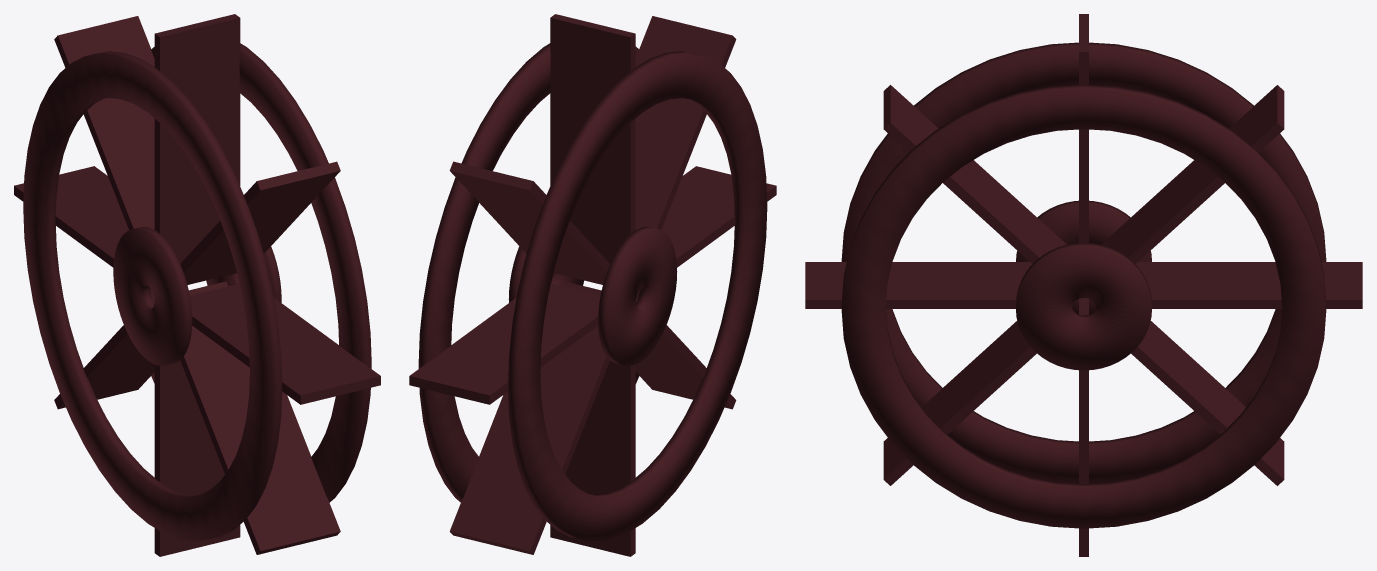
File: level_one_water_wheel.fbx
3 views of the same model, side by side, from view 1: azimuth 30°, elevation 25°; view 2: azimuth 150°, elevation 25°; view 3: azimuth 270°, elevation 25° (orthographic). The views are drawn at different scales.
Parts seen in each view (by area): view 1: WaterWheel01; view 2: WaterWheel01; view 3: WaterWheel01.
Part boxes in pixels (x1,y1,x2,y2): WaterWheel01: (14,14,380,556); WaterWheel01: (409,14,776,556); WaterWheel01: (805,14,1362,556).
Bounding box in the file's own units: 412 × 2060 × 2060.
